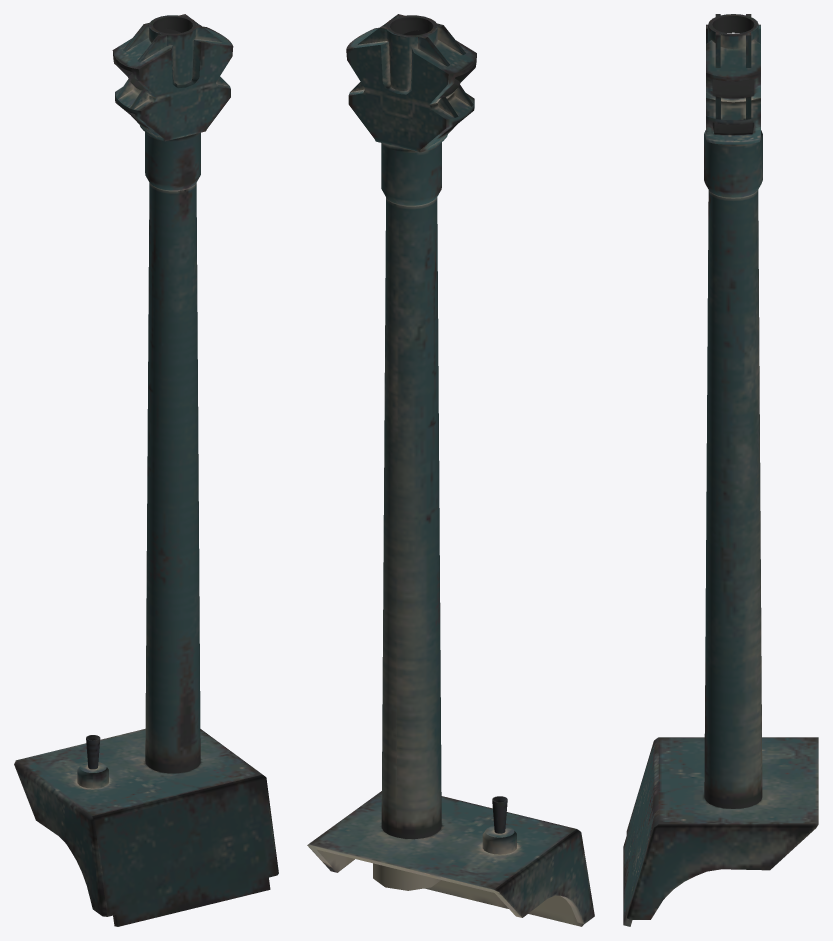
The model's file is Gun_06.glb.
The picture shows the model from 3 angles, left to right: view 1: azimuth 30°, elevation 25°; view 2: azimuth 150°, elevation 25°; view 3: azimuth 270°, elevation 25°; orthographic projection. The views are drawn at different scales.
Visible parts, largest first — view 1: set_0_group_0; view 2: set_0_group_0; view 3: set_0_group_0.
Part boxes in pixels (<box>): set_0_group_0: <box>14,14,278,926</box>; set_0_group_0: <box>307,14,594,926</box>; set_0_group_0: <box>623,14,818,926</box>.
Size of the model in its own units: 0.5611 by 2.55 by 0.5135.
1 material, 1 textured.
